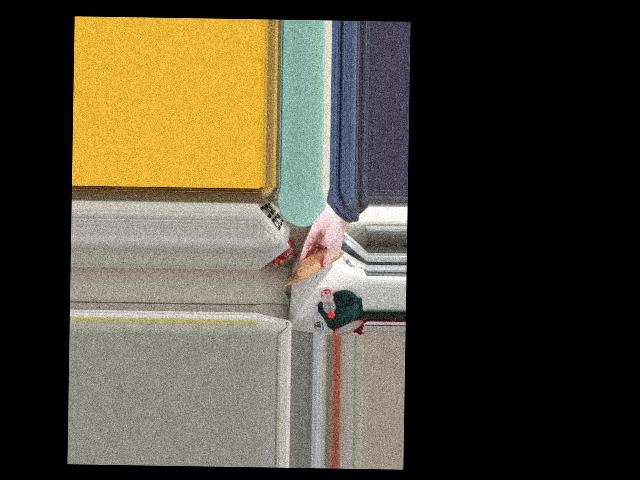sweet_potato: (301, 248, 333, 279)
